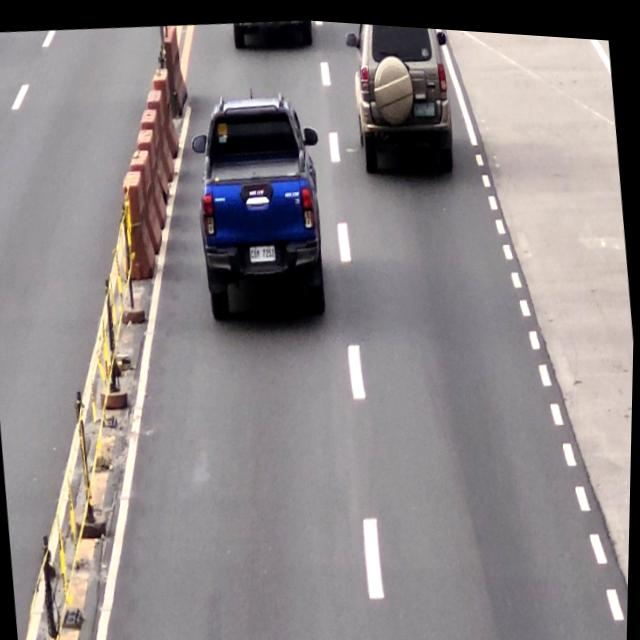Car: (186, 91, 333, 324), (344, 18, 460, 174)
License-Plate: (245, 237, 279, 263)
